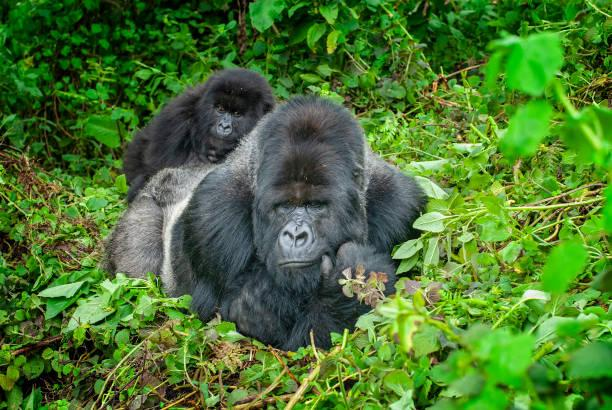goriile_montagne: (137, 91, 416, 316), (117, 47, 270, 168)
